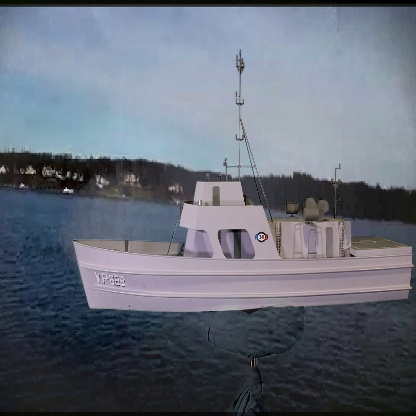YP689: (72, 53, 410, 314)
